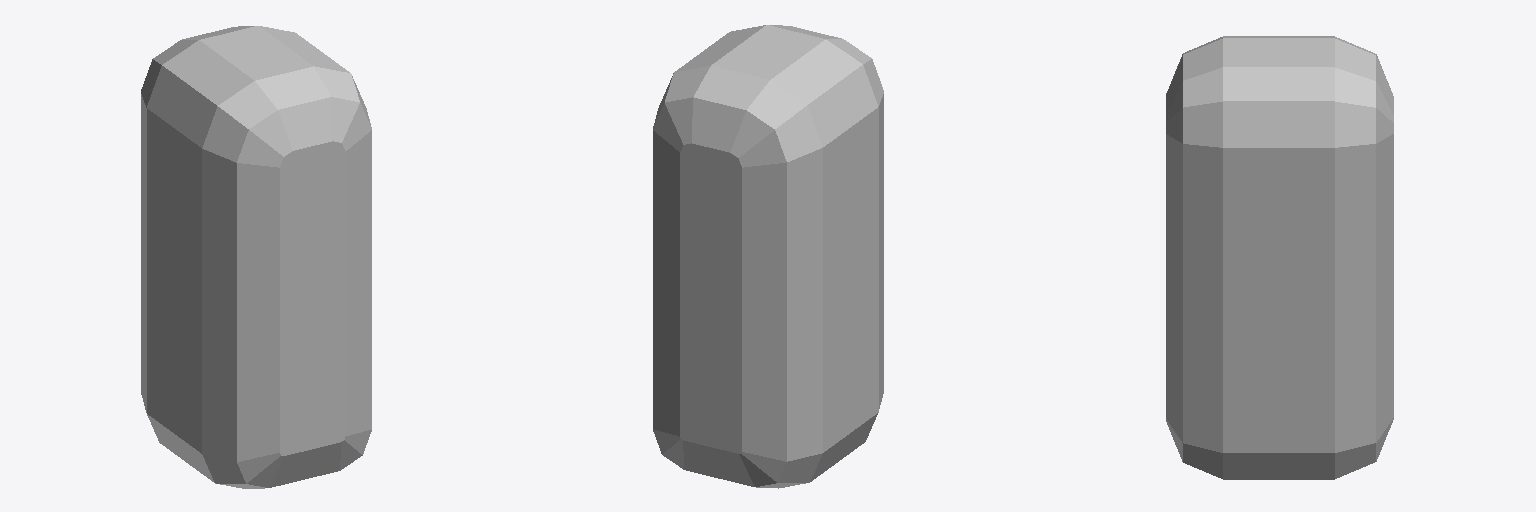
Rendered from Hecke.obj.
3 views of the same model, side by side, from view 1: azimuth 30°, elevation 25°; view 2: azimuth 150°, elevation 25°; view 3: azimuth 270°, elevation 25° (orthographic).
Parts seen in each view (by area): view 1: Hecke.037_Cube.065; view 2: Hecke.037_Cube.065; view 3: Hecke.037_Cube.065.
Part boxes in pixels (x1,y1,x2,y2): Hecke.037_Cube.065: (141,26,371,488); Hecke.037_Cube.065: (653,25,883,488); Hecke.037_Cube.065: (1166,36,1393,479).
Bounding box in the file's own units: 1.5 × 3.54 × 1.8.